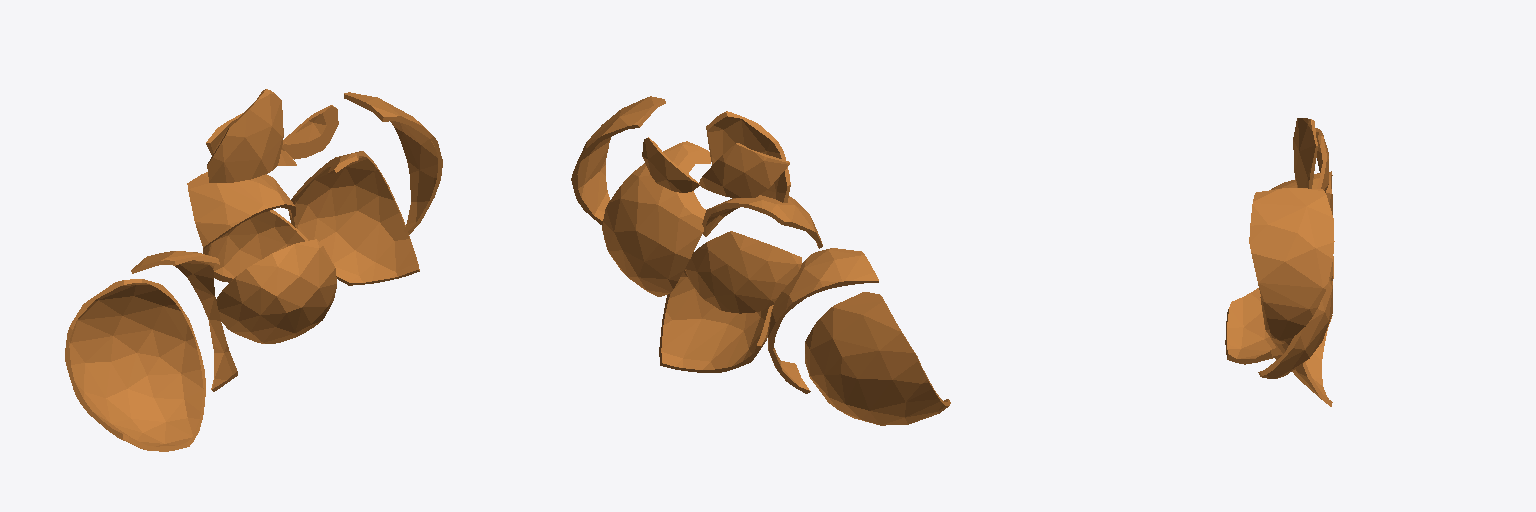
The model's file is fragments.obj.
The picture shows the model from 3 angles: view 1: azimuth 30°, elevation 25°; view 2: azimuth 150°, elevation 25°; view 3: azimuth 270°, elevation 25°; orthographic projection.
Parts seen in each view (by area): view 1: Icosphere.002_cell.005, Icosphere.002_cell.008, Icosphere.002_cell.007, Icosphere.002_cell.003, Icosphere.002_cell.002, Icosphere.002_cell.009, Icosphere.002_cell.004, Icosphere.002_cell.001, Icosphere.002_cell.006, Icosphere.002_cell; view 2: Icosphere.002_cell.005, Icosphere.002_cell.008, Icosphere.002_cell.007, Icosphere.002_cell.004, Icosphere.002_cell.001, Icosphere.002_cell.009, Icosphere.002_cell, Icosphere.002_cell.003, Icosphere.002_cell.002, Icosphere.002_cell.006; view 3: Icosphere.002_cell.009, Icosphere.002_cell.005, Icosphere.002_cell.008, Icosphere.002_cell.003, Icosphere.002_cell.007, Icosphere.002_cell.
Part boxes in pixels (x1,y1,x2,y2): Icosphere.002_cell.005: (65,279,205,451); Icosphere.002_cell.008: (288,151,419,285); Icosphere.002_cell.007: (216,239,336,343); Icosphere.002_cell.003: (207,89,283,182); Icosphere.002_cell.002: (187,172,295,248); Icosphere.002_cell.009: (344,92,442,234); Icosphere.002_cell.004: (203,210,307,282); Icosphere.002_cell.001: (131,251,237,391); Icosphere.002_cell.006: (282,105,338,159); Icosphere.002_cell: (206,113,296,165); Icosphere.002_cell.005: (805,292,950,425); Icosphere.002_cell.008: (602,141,710,296); Icosphere.002_cell.007: (659,270,773,372); Icosphere.002_cell.004: (685,231,801,313); Icosphere.002_cell.001: (768,248,878,393); Icosphere.002_cell.009: (571,96,665,225); Icosphere.002_cell: (699,143,789,197); Icosphere.002_cell.003: (706,111,790,202); Icosphere.002_cell.002: (702,195,822,248); Icosphere.002_cell.006: (642,137,699,192); Icosphere.002_cell.009: (1249,188,1334,343); Icosphere.002_cell.005: (1225,288,1276,364); Icosphere.002_cell.008: (1258,277,1332,378); Icosphere.002_cell.003: (1293,118,1318,188); Icosphere.002_cell.007: (1260,297,1332,406); Icosphere.002_cell: (1315,128,1328,192).
Size of the model in its own units: 4.79 by 3.88 by 1.28.